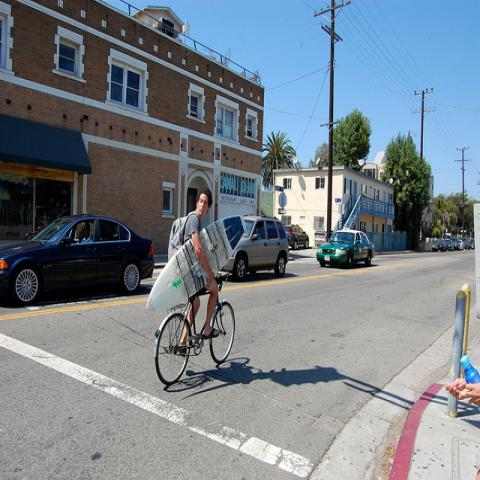car: (1, 213, 155, 304), (220, 214, 288, 280), (317, 228, 377, 272), (283, 224, 310, 250), (432, 239, 447, 253), (444, 240, 454, 251), (461, 238, 470, 250), (452, 238, 460, 249), (458, 239, 464, 250), (470, 238, 474, 250)
